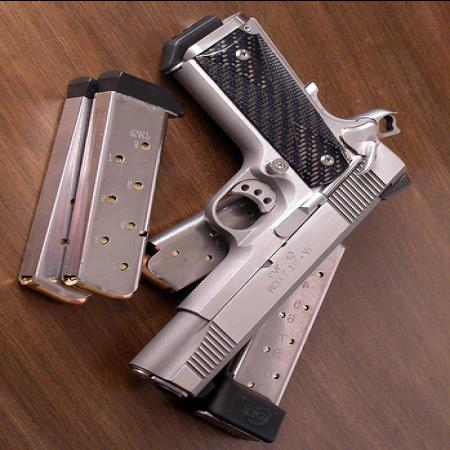Pistol: (124, 11, 420, 398)
